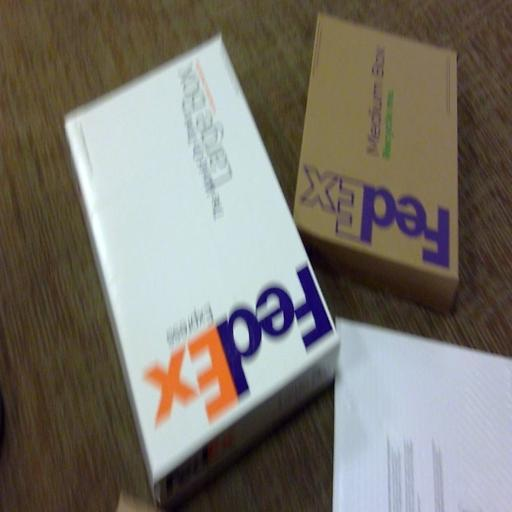Amazon: (116, 36, 318, 459), (282, 24, 484, 237)
